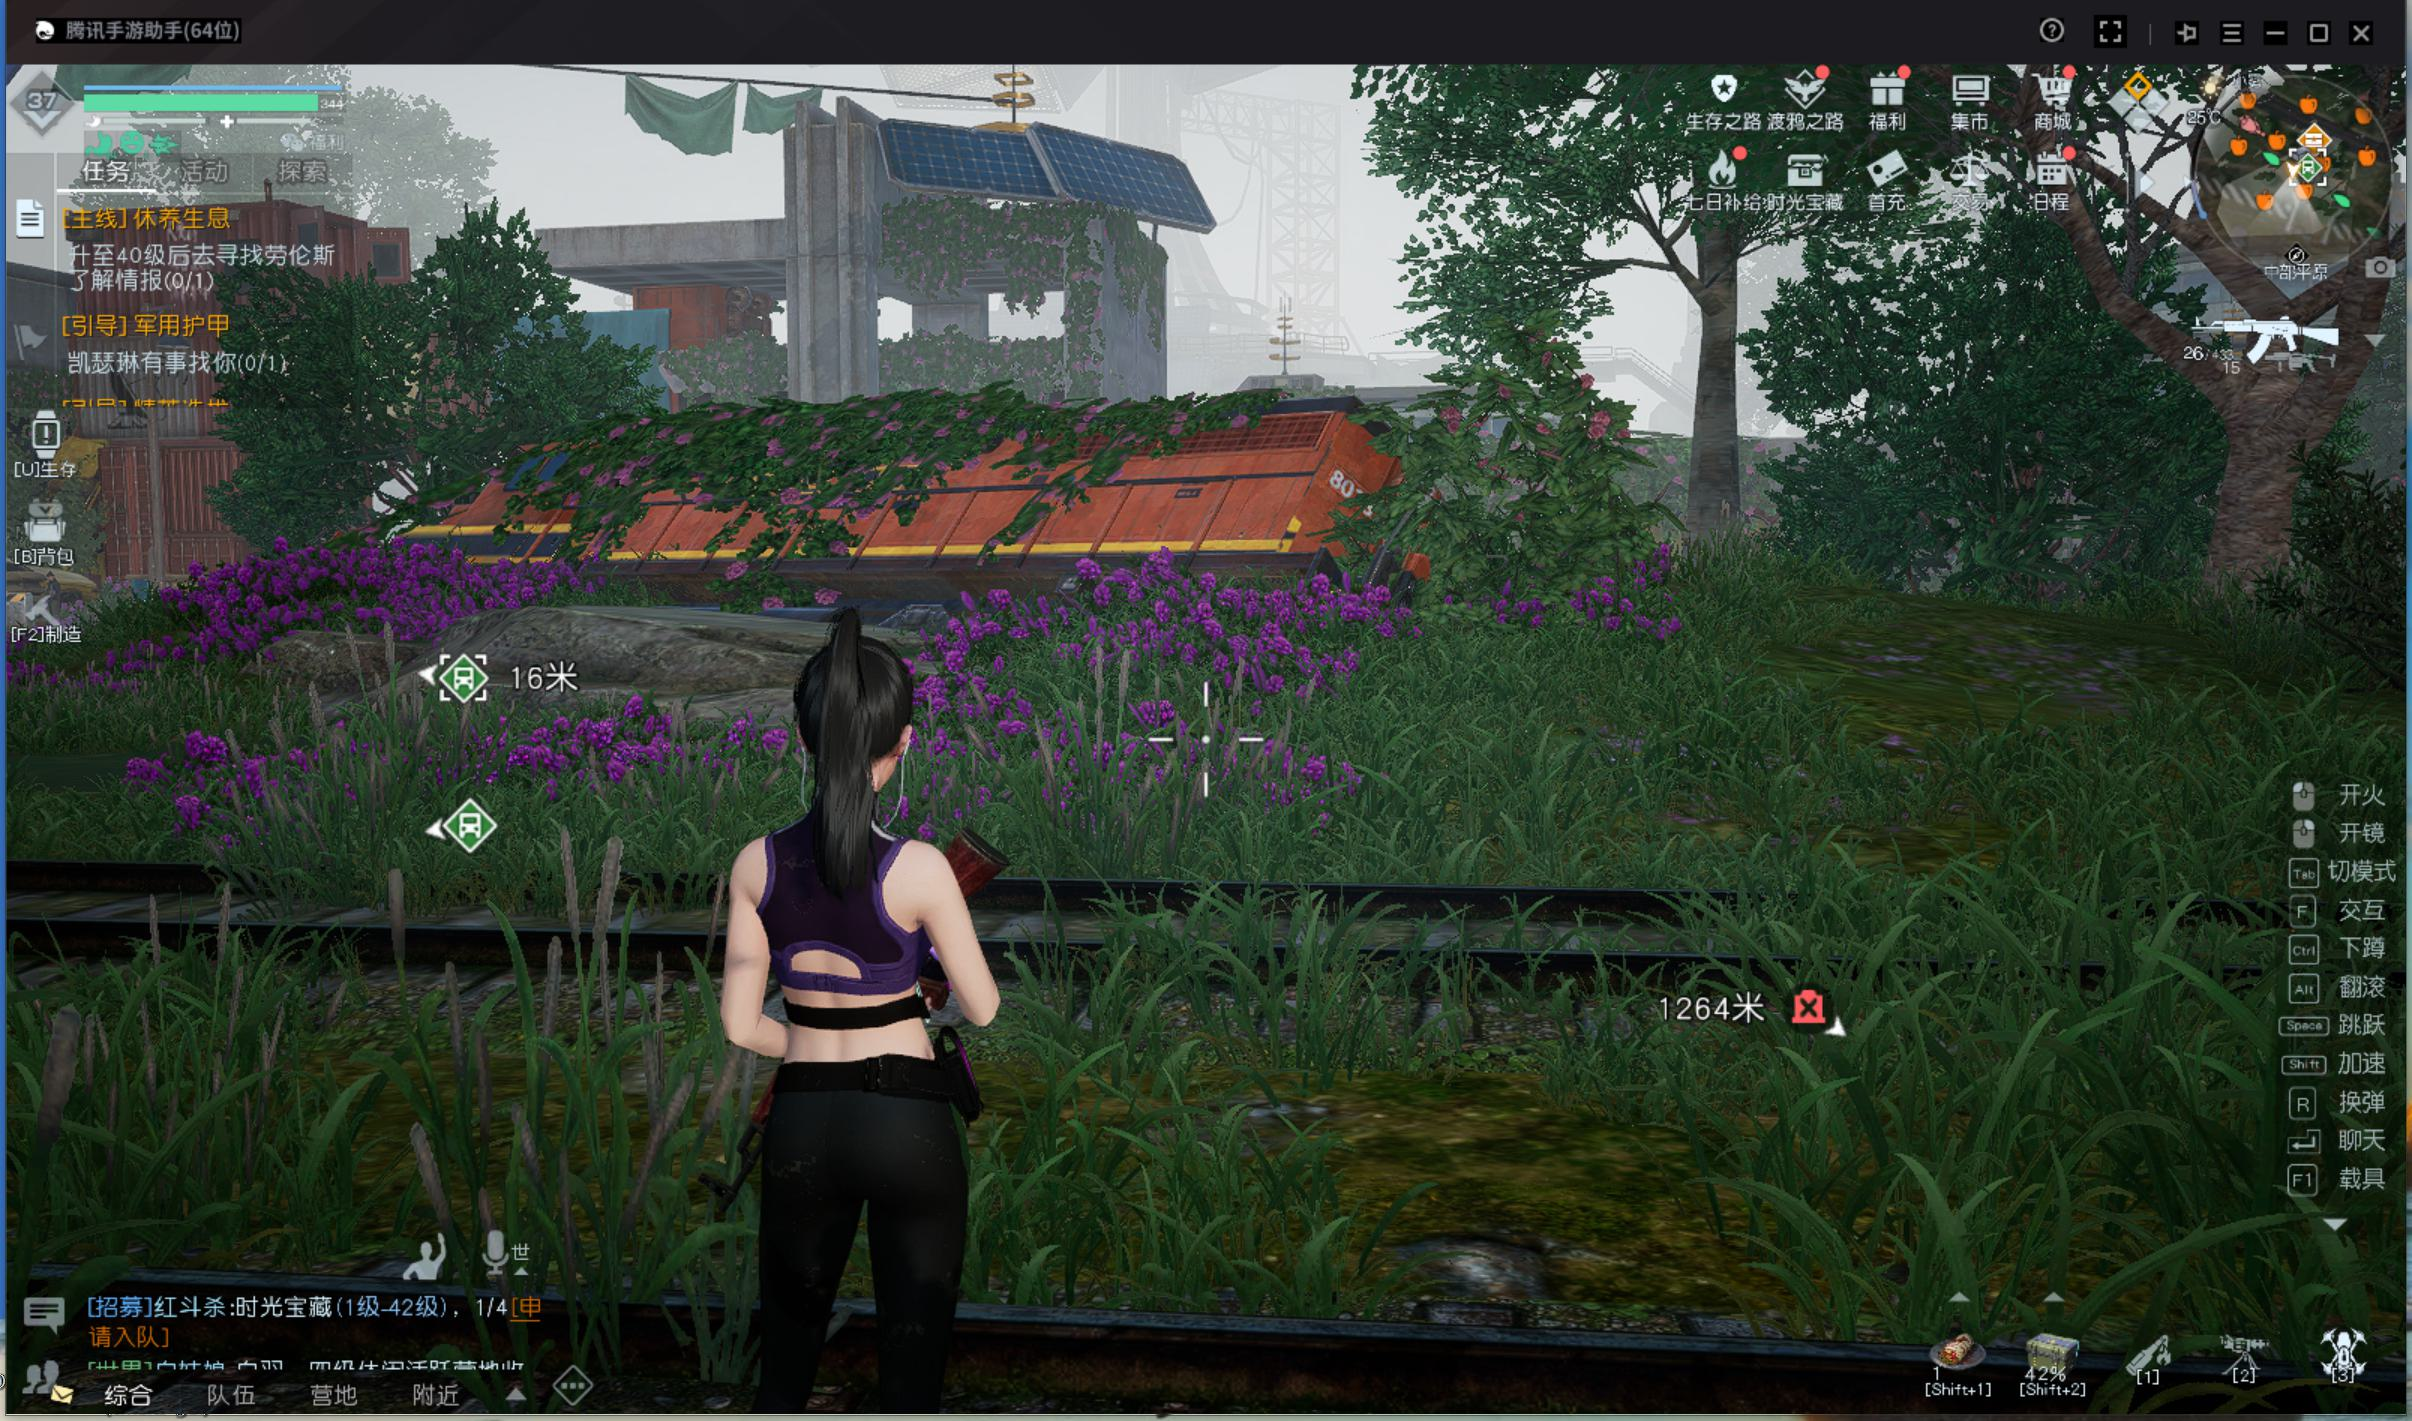tree: (1664, 235, 1768, 553), (2197, 401, 2348, 617)
